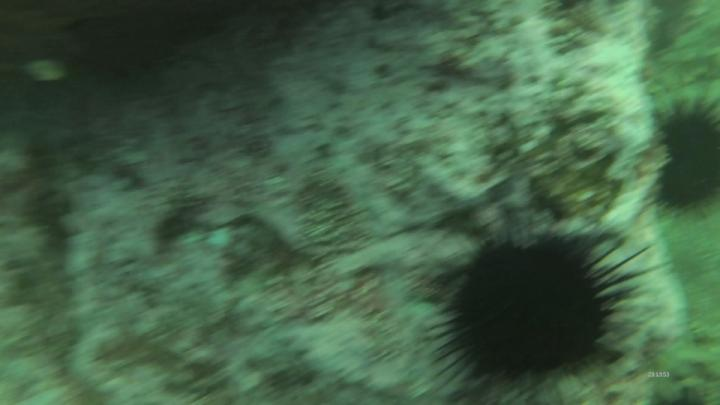echinus: (435, 227, 634, 396), (651, 91, 720, 220)
